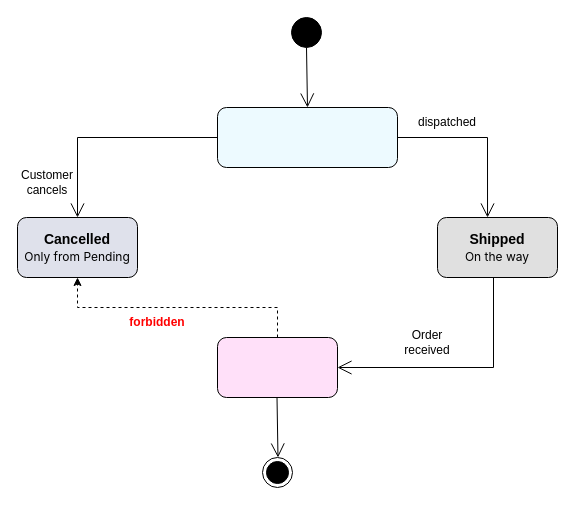
Some shapes in this 575 by 505 pixel diagram are drawn without their labels. The shapes that lost their labels are listed below. From the top down, each one's centre as x and y in pixels, then its label:
the point at 307,137: Pending Order placed, awaiting dispatch
the point at 277,367: Delivered Order complete
